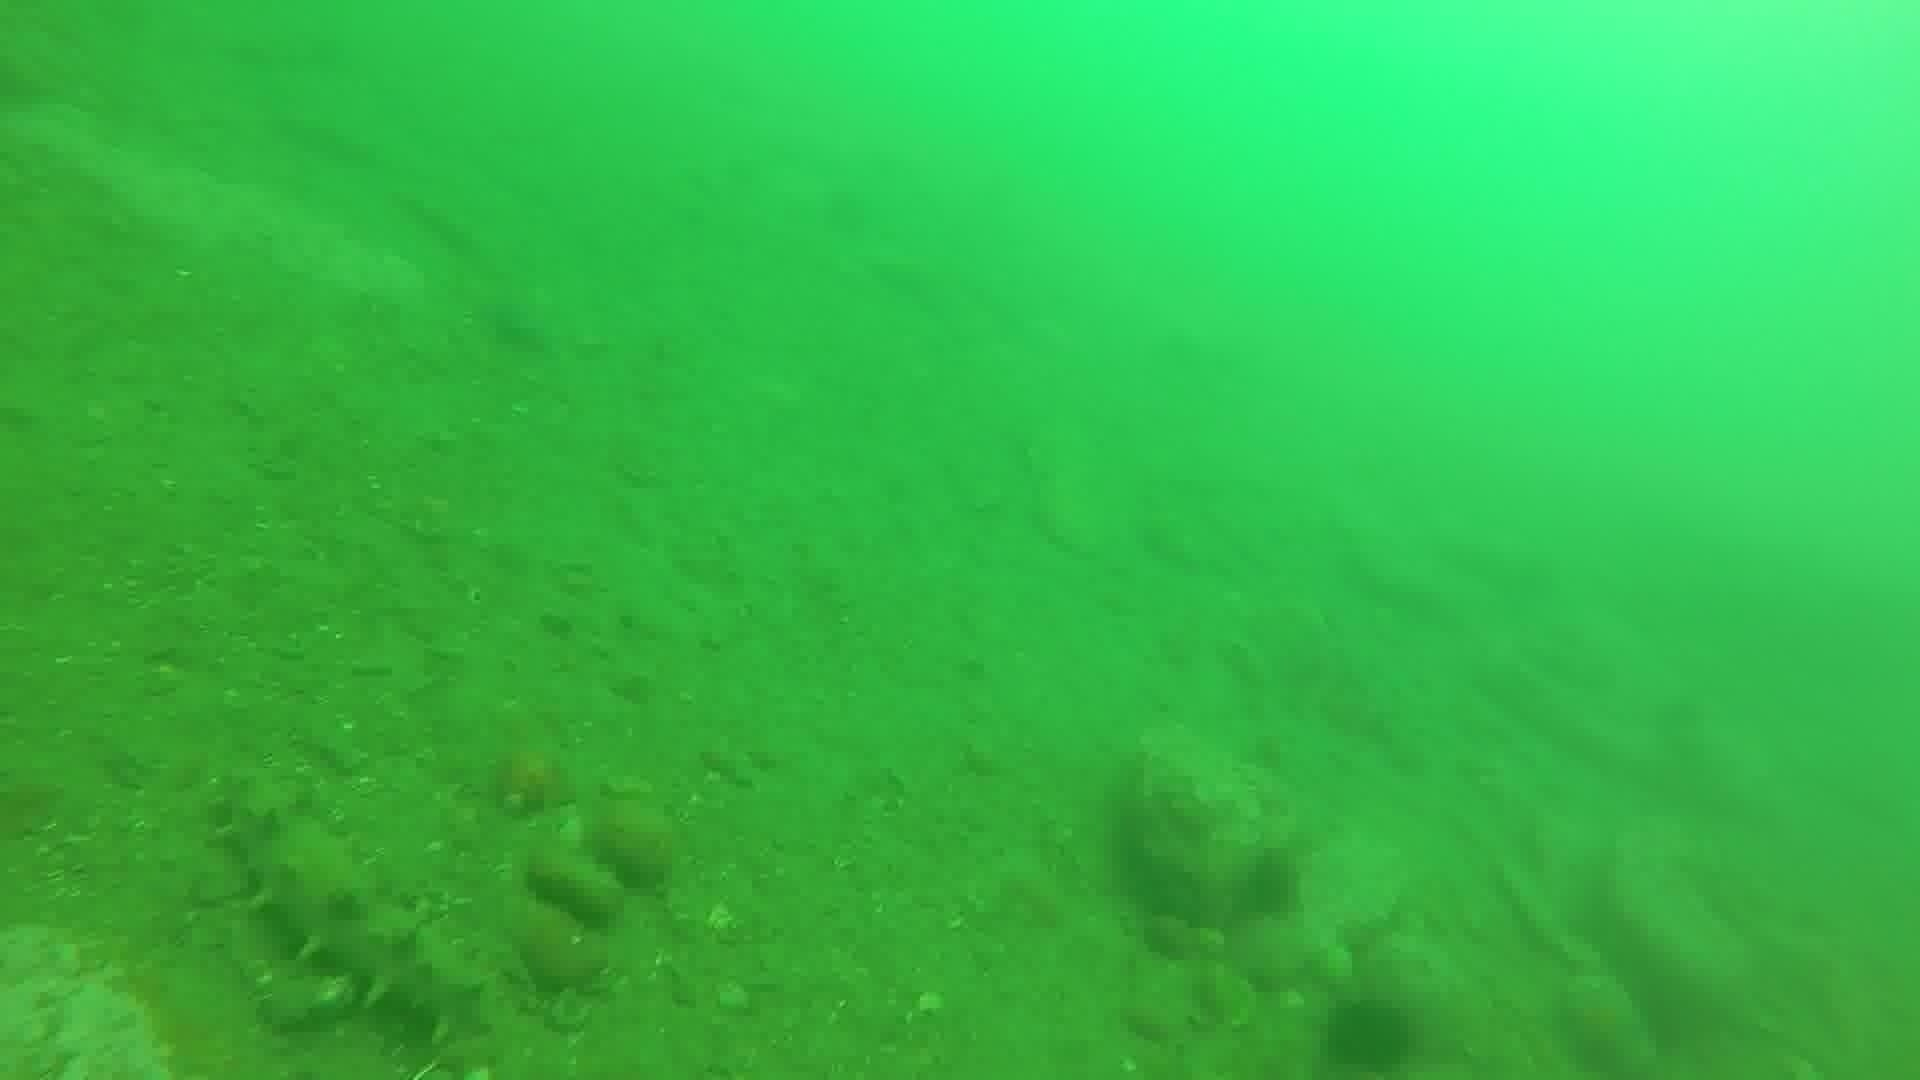echinus: (1315, 990, 1422, 1073), (1240, 847, 1309, 920)
holothurian: (204, 760, 497, 1051)
